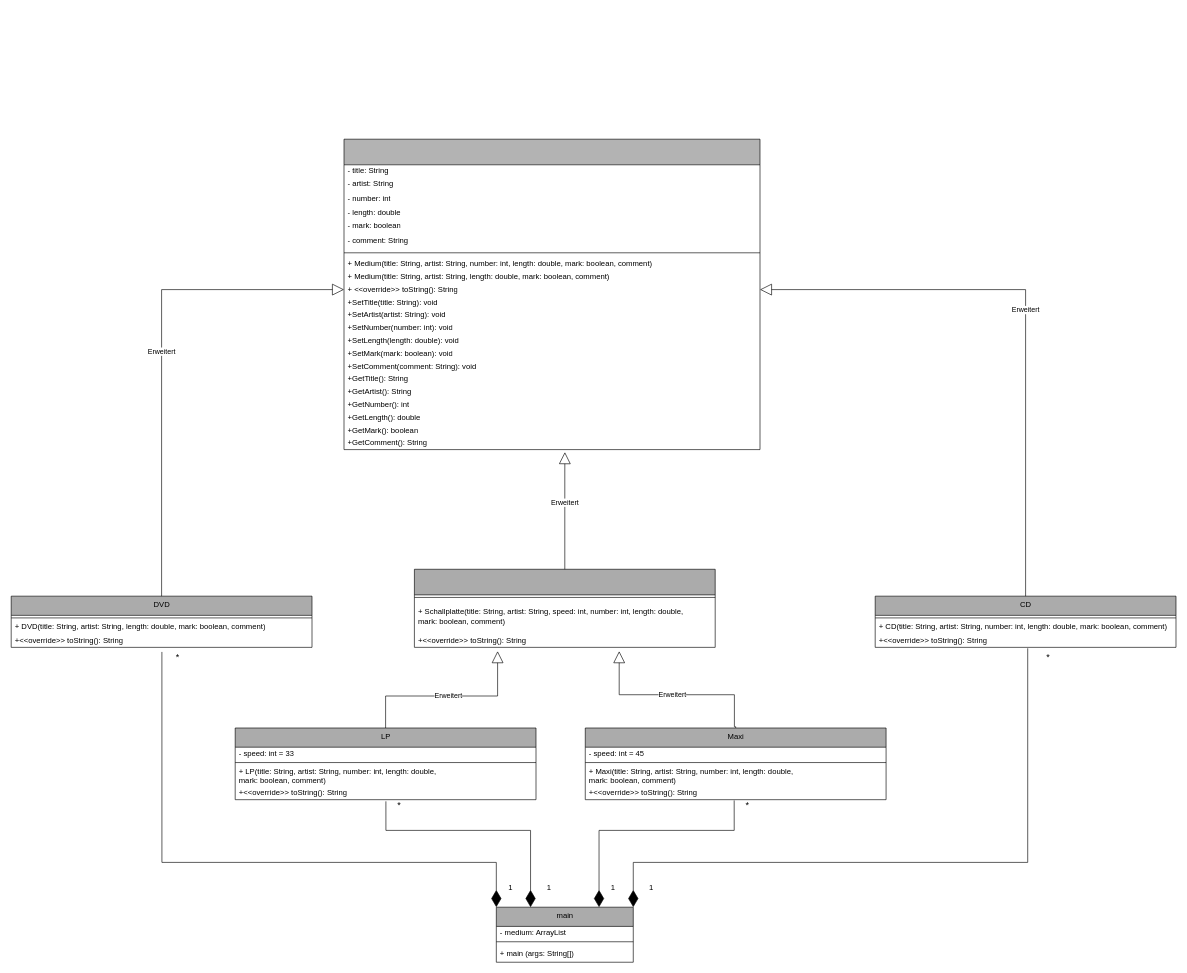
This 1187x973 diagram has some shape labels left out. Here are the shapes that lost their labels. From the top down, the box of each, then its label:
(343, 139, 760, 450): <<abstract>> Medium
(414, 569, 715, 647): <<abstract>> Schallplatte
